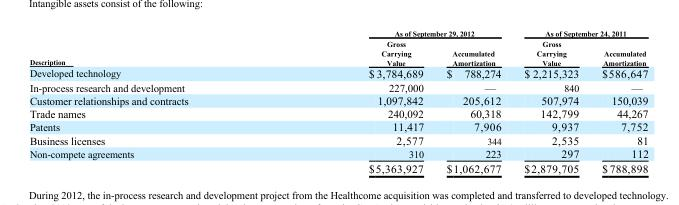table: (28, 28, 647, 174)
table column: (28, 28, 277, 174), (277, 28, 434, 174), (434, 28, 512, 174), (512, 28, 589, 174), (589, 28, 647, 174)
table column header: (28, 28, 647, 66)
table row: (28, 38, 647, 66), (28, 66, 647, 80), (28, 119, 647, 133), (28, 146, 647, 160), (28, 160, 647, 174), (28, 80, 647, 93), (28, 93, 647, 106), (28, 106, 647, 119), (28, 133, 647, 146), (28, 28, 647, 38)
table spanning cell: (28, 28, 277, 66), (277, 28, 512, 38), (512, 28, 647, 38)
